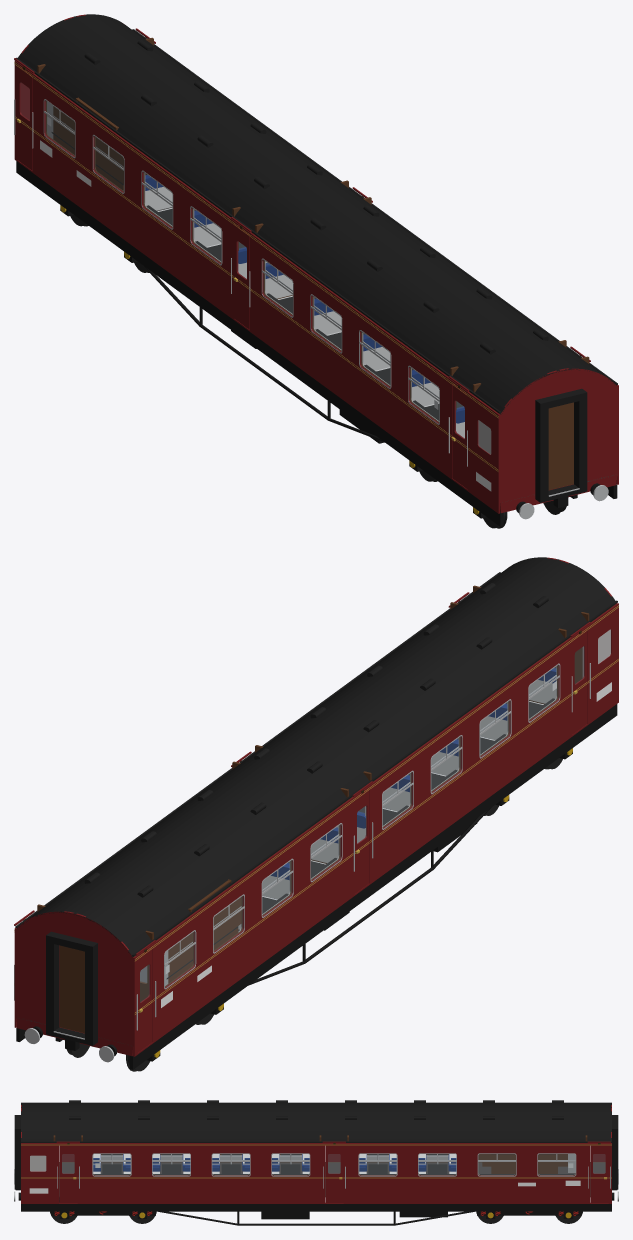
Rendered from coach_buffet1_lod0.glb.
3 views of the same model, one above another, from view 1: azimuth 30°, elevation 25°; view 2: azimuth 150°, elevation 25°; view 3: azimuth 270°, elevation 25° (orthographic). The views are drawn at different scales.
Parts seen in each view (by area): view 1: coach_static_roof_black, coach_static_coach_maroon, coach_static_underframe, coach_static_glass, coach_int_wood_panel, coach_static_rubber, coach_static_steel, coach_int_decal_seatfabric, coach_static_lining_gold, gw_door_A_wood_panel, coach_int_table_top, coach_int_steel (+4 smaller); view 2: coach_static_roof_black, coach_static_coach_maroon, coach_static_underframe, coach_static_glass, coach_int_wood_panel, coach_static_steel, coach_static_rubber, coach_int_decal_seatfabric, coach_static_lining_gold, gw_door_B_wood_panel, coach_int_table_top, coach_int_steel (+4 smaller); view 3: coach_static_coach_maroon, coach_static_roof_black, coach_static_underframe, coach_static_glass, coach_static_lining_gold, coach_int_table_top, coach_static_steel, coach_int_wood_panel, coach_int_carpet, coach_int_steel, coach_int_seat_vinyl, coach_static_rubber (+9 smaller).
Part boxes in pixels (x1,y1,x2,y2): coach_static_roof_black: [16, 14, 617, 414]; coach_static_coach_maroon: [14, 14, 618, 513]; coach_static_underframe: [16, 161, 617, 526]; coach_static_glass: [45, 101, 438, 422]; coach_int_wood_panel: [34, 37, 589, 451]; coach_static_rubber: [535, 388, 587, 502]; coach_static_steel: [14, 99, 608, 519]; coach_int_decal_seatfabric: [145, 187, 464, 438]; coach_static_lining_gold: [14, 62, 498, 471]; gw_door_A_wood_panel: [548, 402, 573, 489]; coach_int_table_top: [51, 132, 462, 420]; coach_int_steel: [47, 101, 439, 421]; coach_static_roof_black: [15, 557, 617, 956]; coach_static_coach_maroon: [14, 557, 618, 1056]; coach_static_underframe: [16, 704, 617, 1069]; coach_static_glass: [165, 665, 558, 987]; coach_int_wood_panel: [37, 585, 615, 1002]; coach_static_steel: [14, 663, 590, 1062]; coach_static_rubber: [46, 931, 97, 1045]; coach_int_decal_seatfabric: [238, 680, 556, 929]; coach_static_lining_gold: [14, 605, 618, 1014]; gw_door_B_wood_panel: [59, 945, 84, 1033]; coach_int_table_top: [166, 698, 555, 979]; coach_int_steel: [140, 646, 583, 985]; coach_static_coach_maroon: [21, 1105, 611, 1203]; coach_static_roof_black: [21, 1100, 611, 1142]; coach_static_underframe: [16, 1189, 616, 1225]; coach_static_glass: [93, 1154, 575, 1175]; coach_static_lining_gold: [21, 1144, 611, 1178]; coach_int_table_top: [94, 1154, 574, 1174]; coach_static_steel: [14, 1153, 618, 1201]; coach_int_wood_panel: [30, 1135, 605, 1175]; coach_int_carpet: [59, 1162, 605, 1196]; coach_int_steel: [93, 1154, 575, 1175]; coach_int_seat_vinyl: [93, 1154, 456, 1171]; coach_static_rubber: [14, 1115, 618, 1189].
Size of the model in its own units: 2.9 by 3.93 by 20.12.
